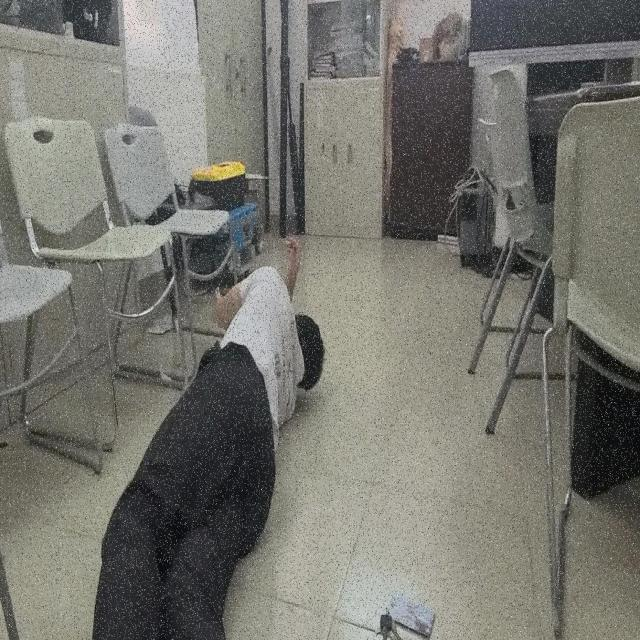fall: (88, 240, 326, 640)
